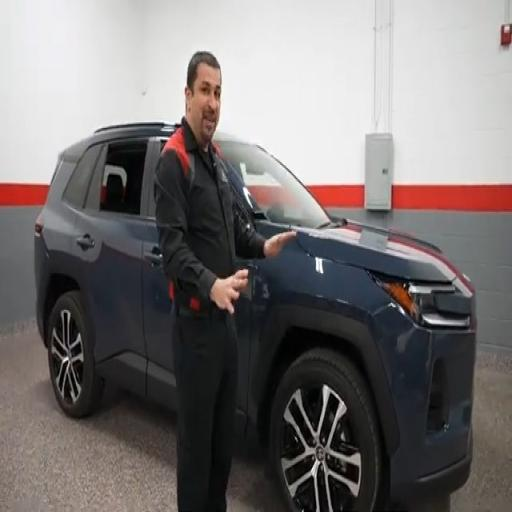bumper: (378, 309, 476, 506), (391, 431, 472, 507)
door: (75, 138, 148, 393), (143, 173, 175, 403)
headlight: (371, 274, 471, 328)
hood: (297, 220, 461, 283)
tire: (269, 349, 382, 510), (47, 291, 103, 418)
wheel: (270, 349, 381, 510)
window: (87, 140, 147, 216), (63, 146, 100, 209)
windshield: (218, 141, 329, 227)
